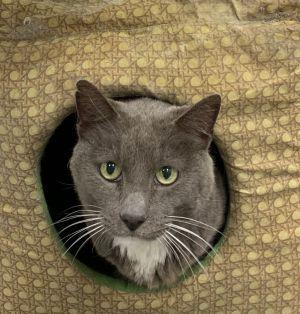rblue: (57, 62, 240, 243)
